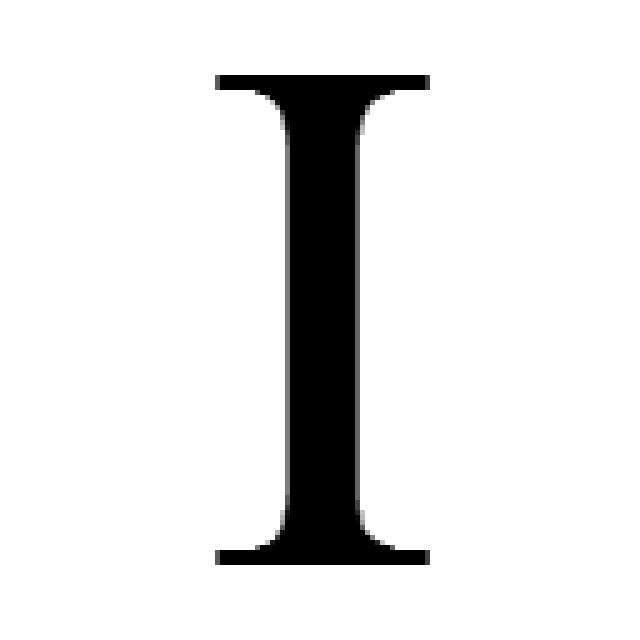I: (215, 75, 435, 570)
